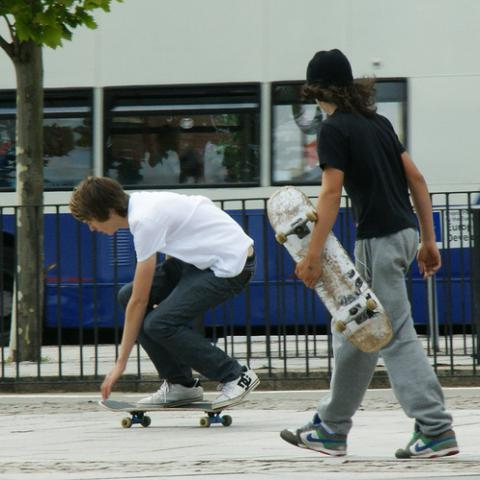bus: (0, 77, 410, 337)
